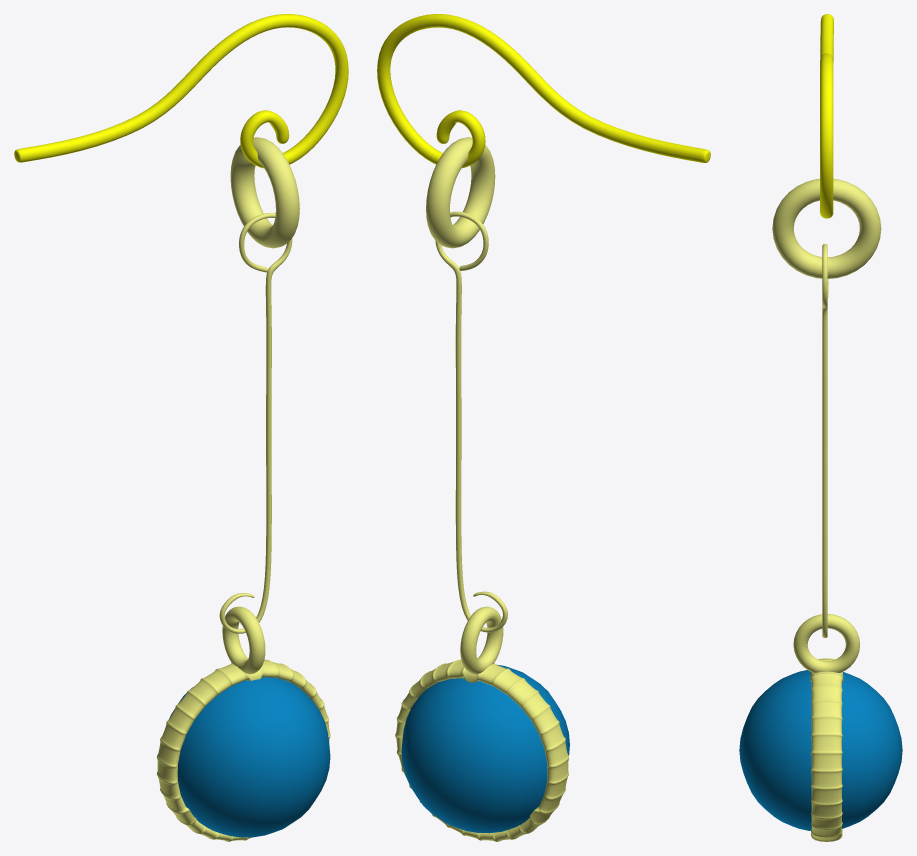
Rendered from danglyTop.glb.
3 views of the same model, side by side, from view 1: azimuth 30°, elevation 25°; view 2: azimuth 150°, elevation 25°; view 3: azimuth 270°, elevation 25° (orthographic). The views are drawn at different scales.
Parts seen in each view (by area): view 1: pSphere1, pTorus3, pCube1; view 2: pSphere1, pTorus3, pCube1; view 3: pSphere1, pTorus3, pCube1.
Boxes of the visible parts, x1=… form: pSphere1: x1=169, y1=677, x2=330, y2=837; pTorus3: x1=156, y1=137, x2=330, y2=841; pCube1: x1=14, y1=14, x2=348, y2=168; pSphere1: x1=401, y1=664, x2=569, y2=833; pTorus3: x1=395, y1=137, x2=568, y2=841; pCube1: x1=377, y1=14, x2=710, y2=168; pSphere1: x1=739, y1=670, x2=902, y2=830; pTorus3: x1=772, y1=178, x2=881, y2=841; pCube1: x1=820, y1=14, x2=833, y2=218.
Bounding box in the file's own units: 4.21 × 9.89 × 1.87.
